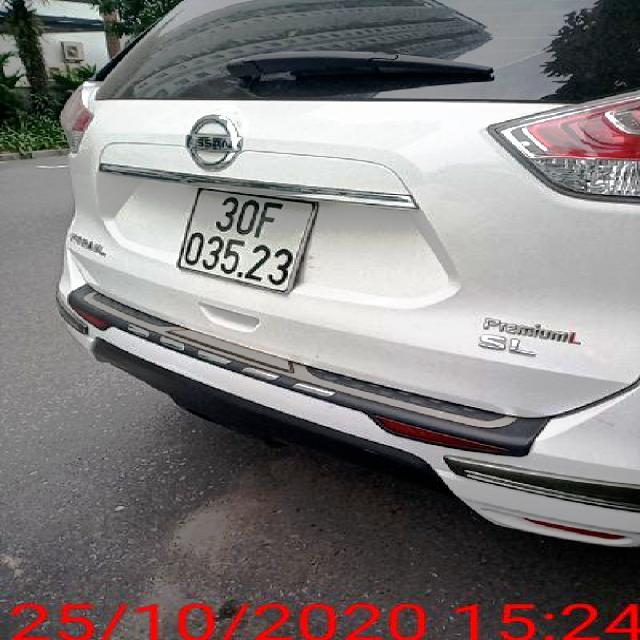license_plate: (178, 189, 320, 293)
